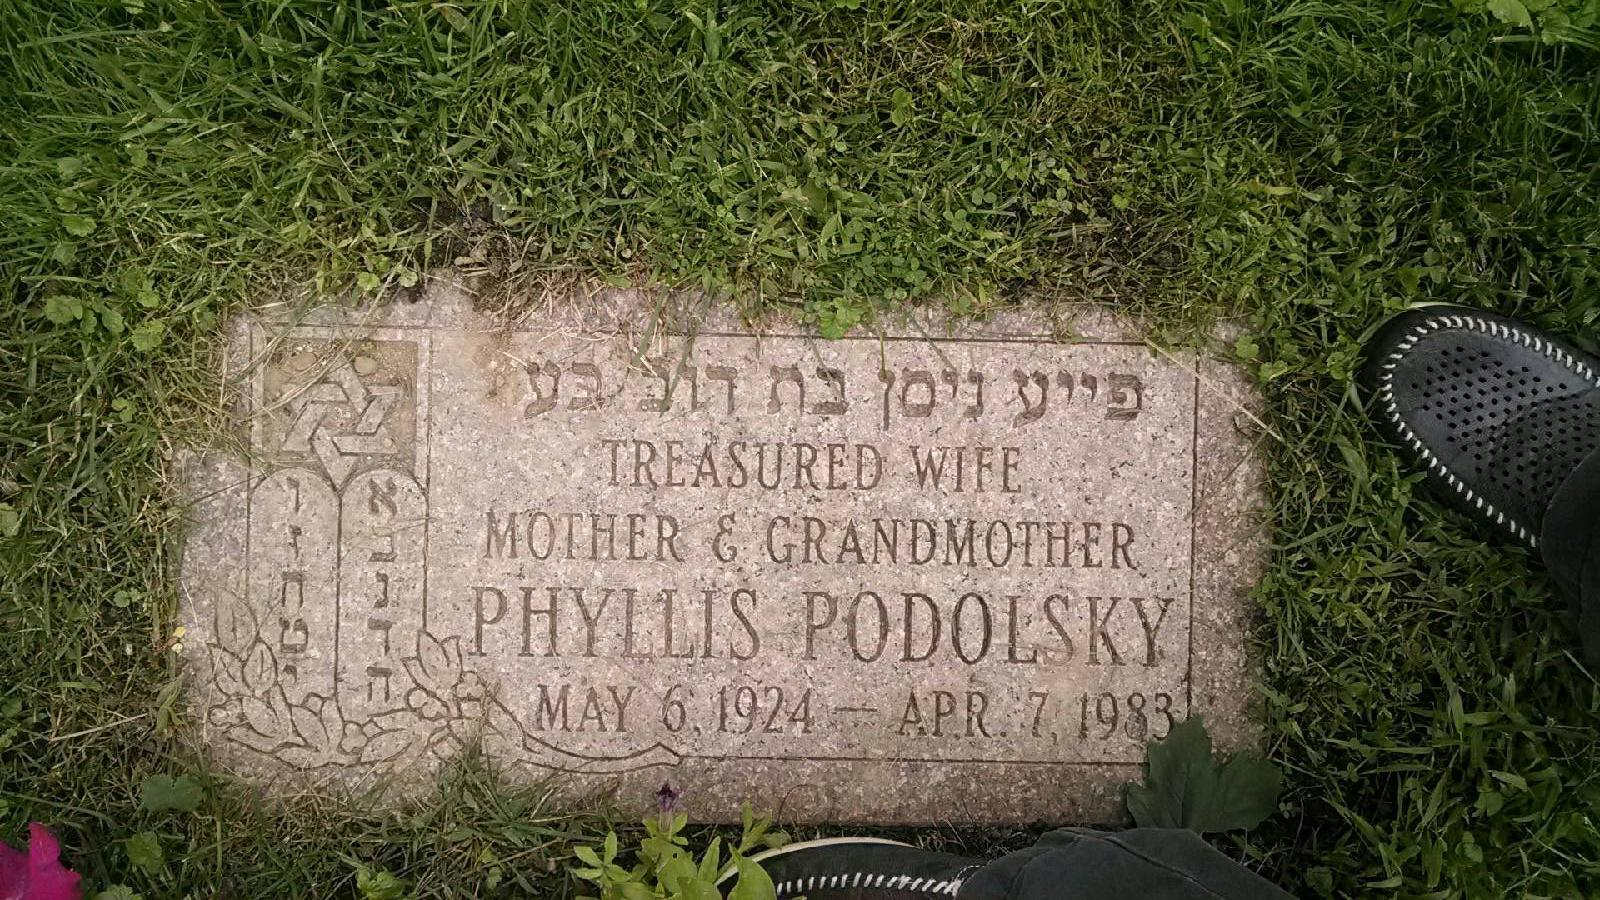flat: (127, 252, 1293, 838)
